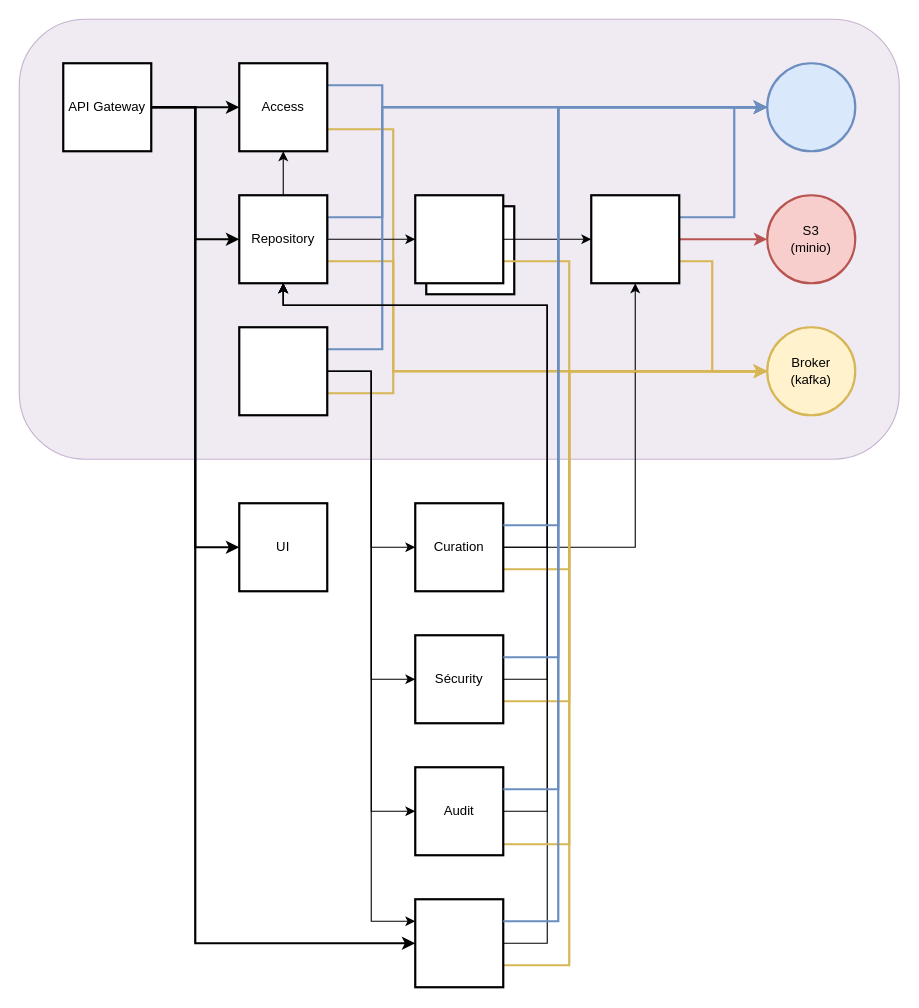
This 919x1008 diagram has some shape labels left out. The centre of each missing label's shape, as x and y in pixels:
Artefact Manager: the point at 459,239
DB (postgresql): the point at 811,107
Event: the point at 283,371
Storage: the point at 635,239
Synchro: the point at 459,943
